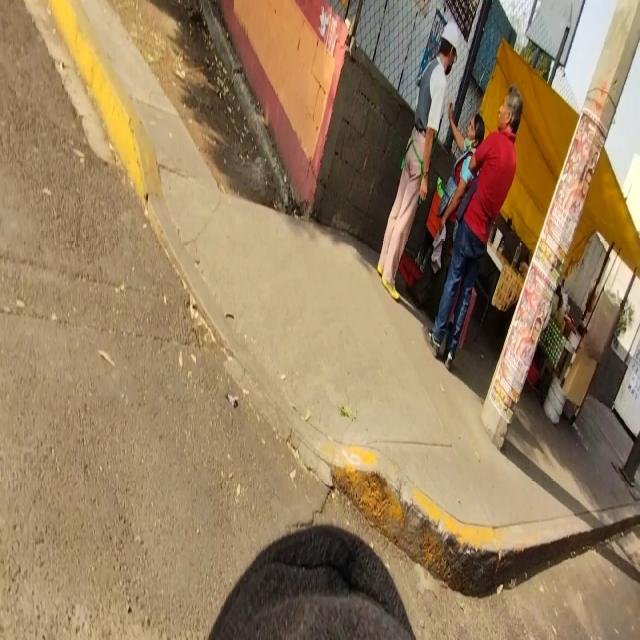adult: (428, 87, 522, 366), (377, 20, 458, 308), (441, 104, 486, 257)
